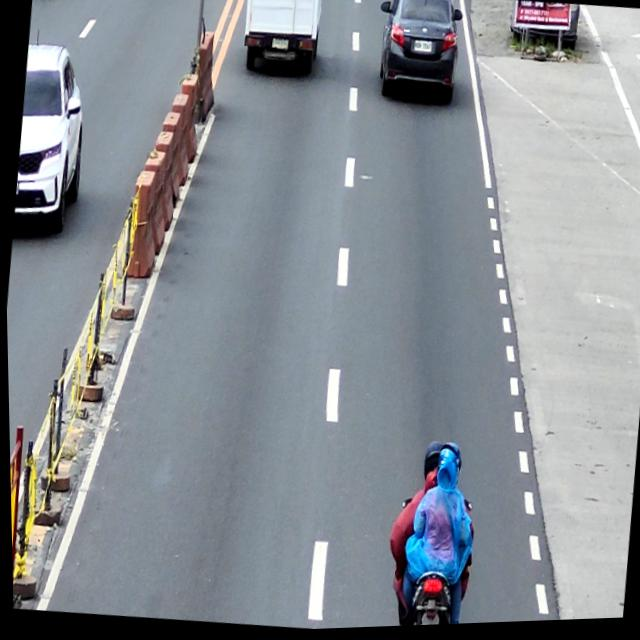Car: (8, 40, 94, 240), (370, 0, 466, 109), (238, 0, 324, 80)
License-Plate: (270, 38, 288, 54), (413, 42, 432, 56)
Motorcycle: (386, 496, 472, 629)
